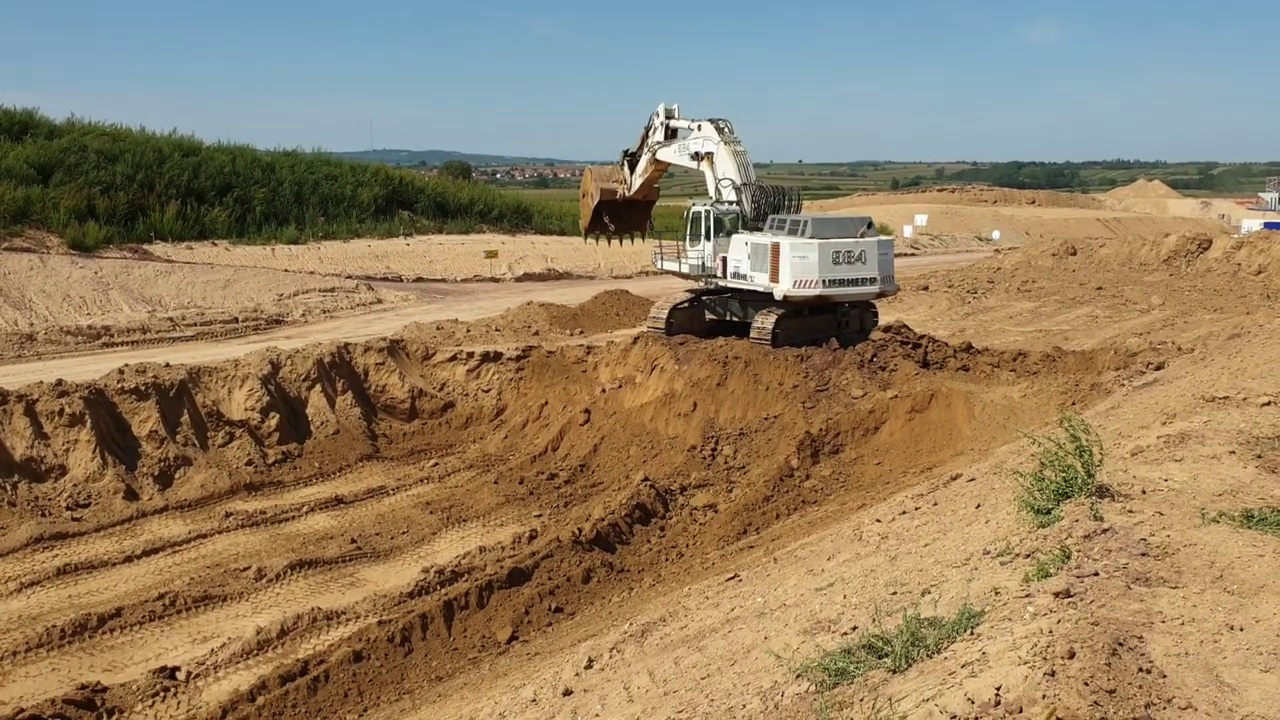excavator: (573, 96, 905, 352)
